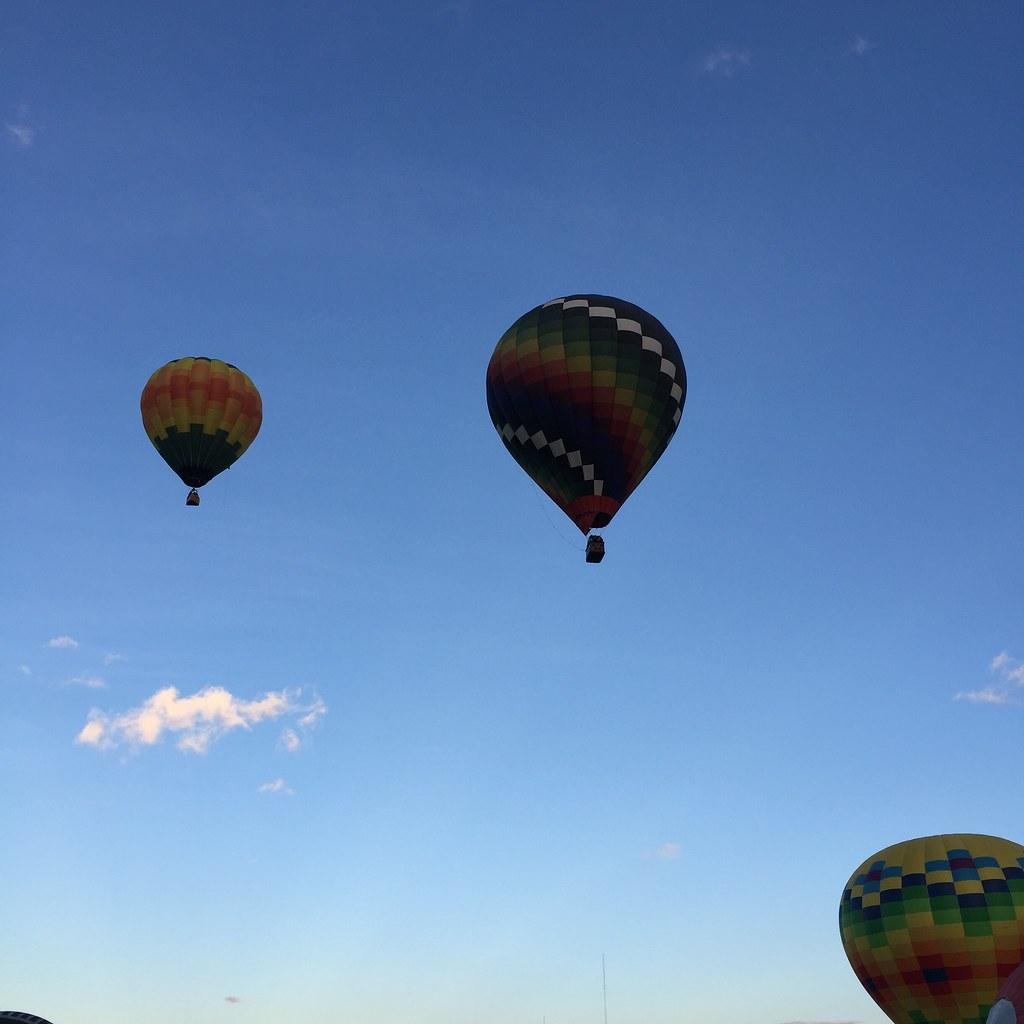balloon: (485, 292, 688, 564), (838, 832, 1024, 1024), (140, 355, 263, 507)
